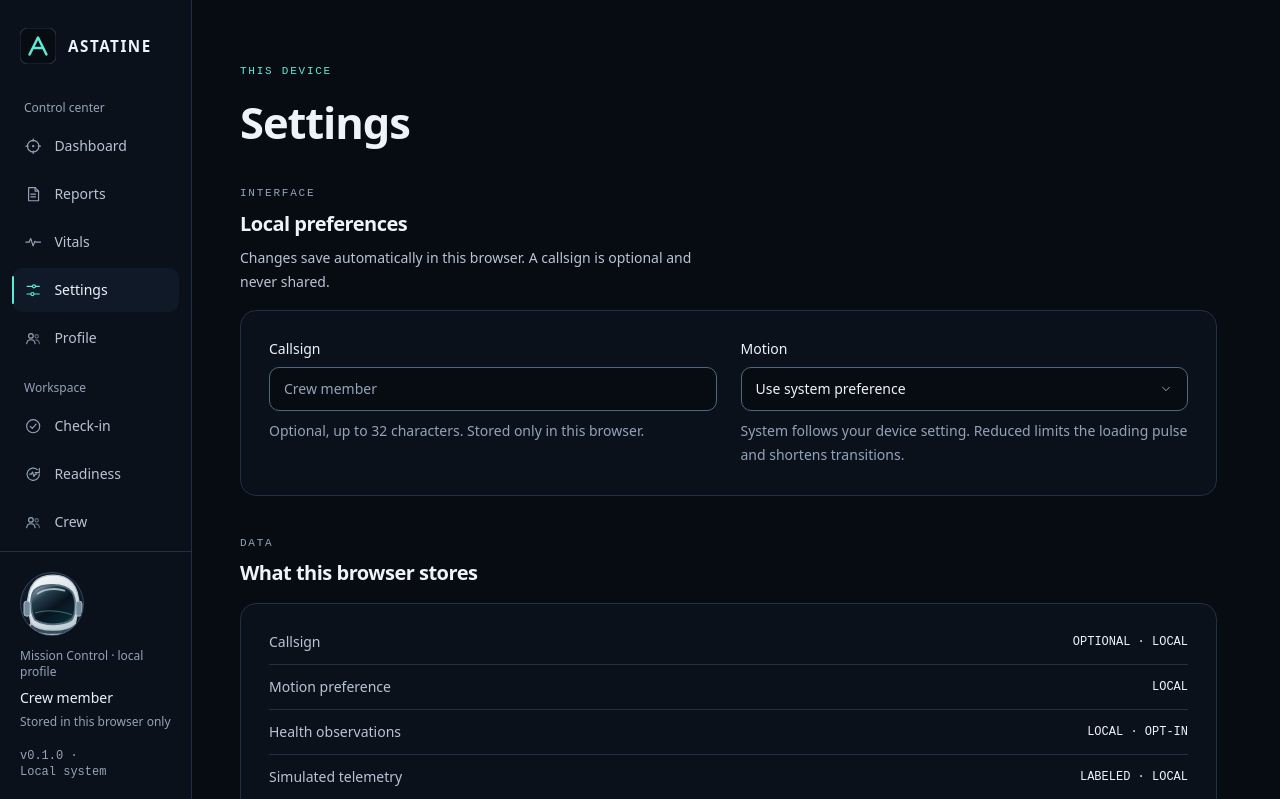
Test case: Settings › saves a local callsign and resets preferences through a confirmation dialog
This screenshot has width=1280, height=799.
Expected: the heading "Settings" is shown, [240,92,410,152]
Type "ORION" into the field labelled "Callsign".
click(493, 389); type("ORION")  # box [269,367,716,411]
(page scrolled)
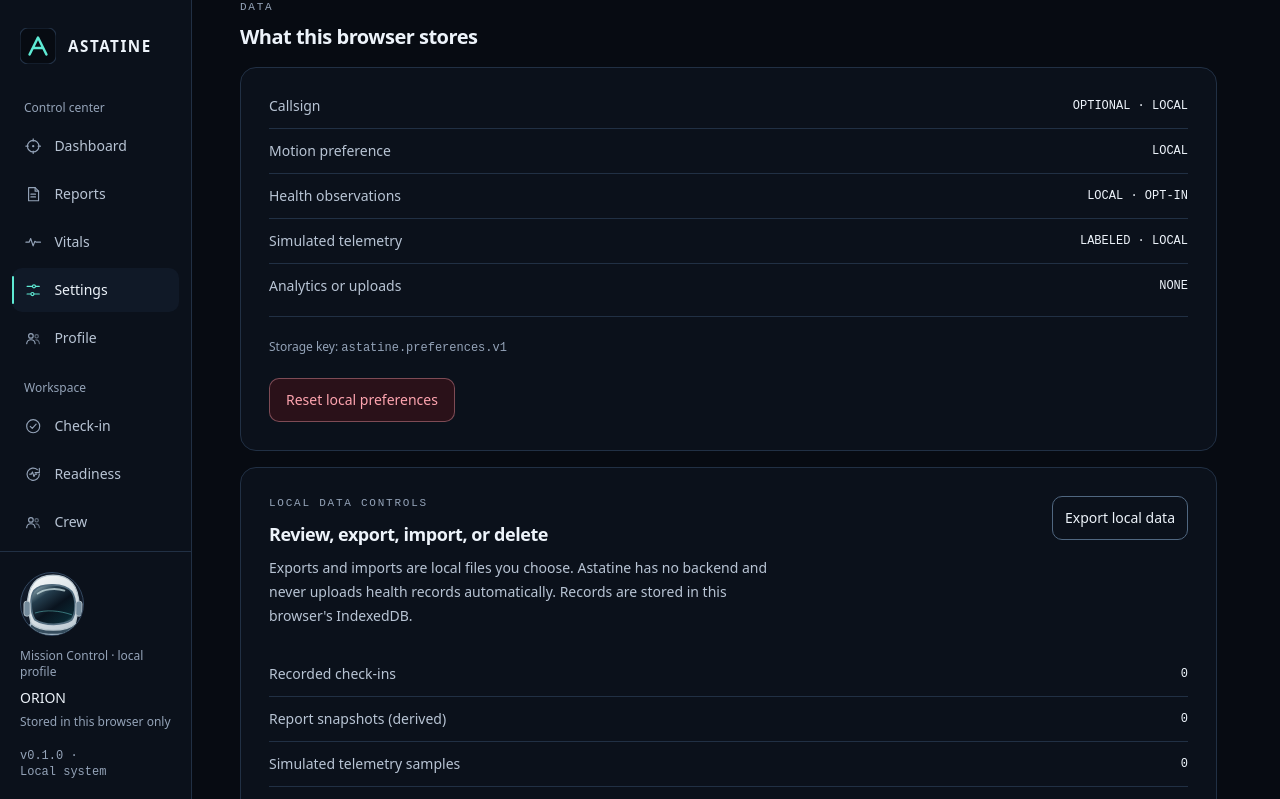
Expected: the text "ORION" is shown, [20,688,66,707]
Click the button "Reset local preferences".
click(362, 400)  # box [269,378,455,422]
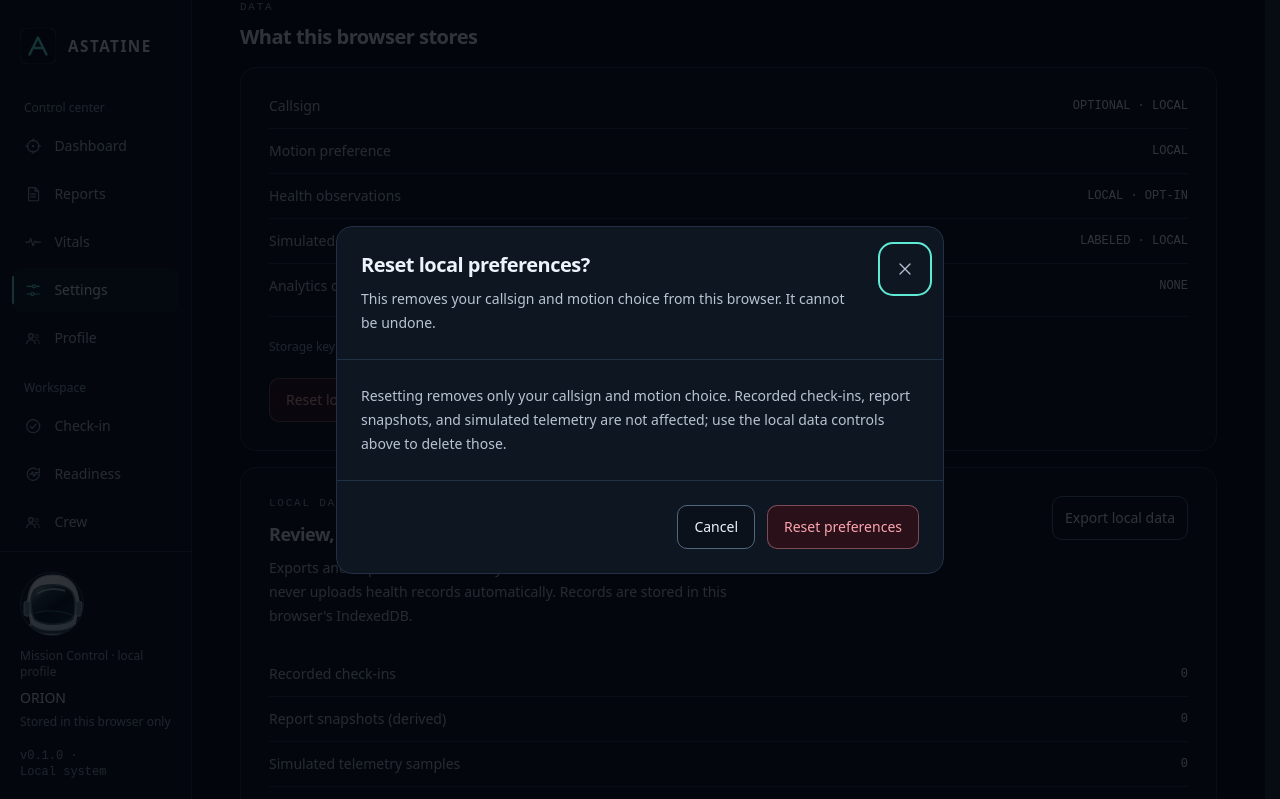
Expected: the dialog "Reset local preferences?" is shown, [336,226,944,574]
Click the button "Reset preferences".
click(843, 527)  # box [767,505,919,549]
(page scrolled)
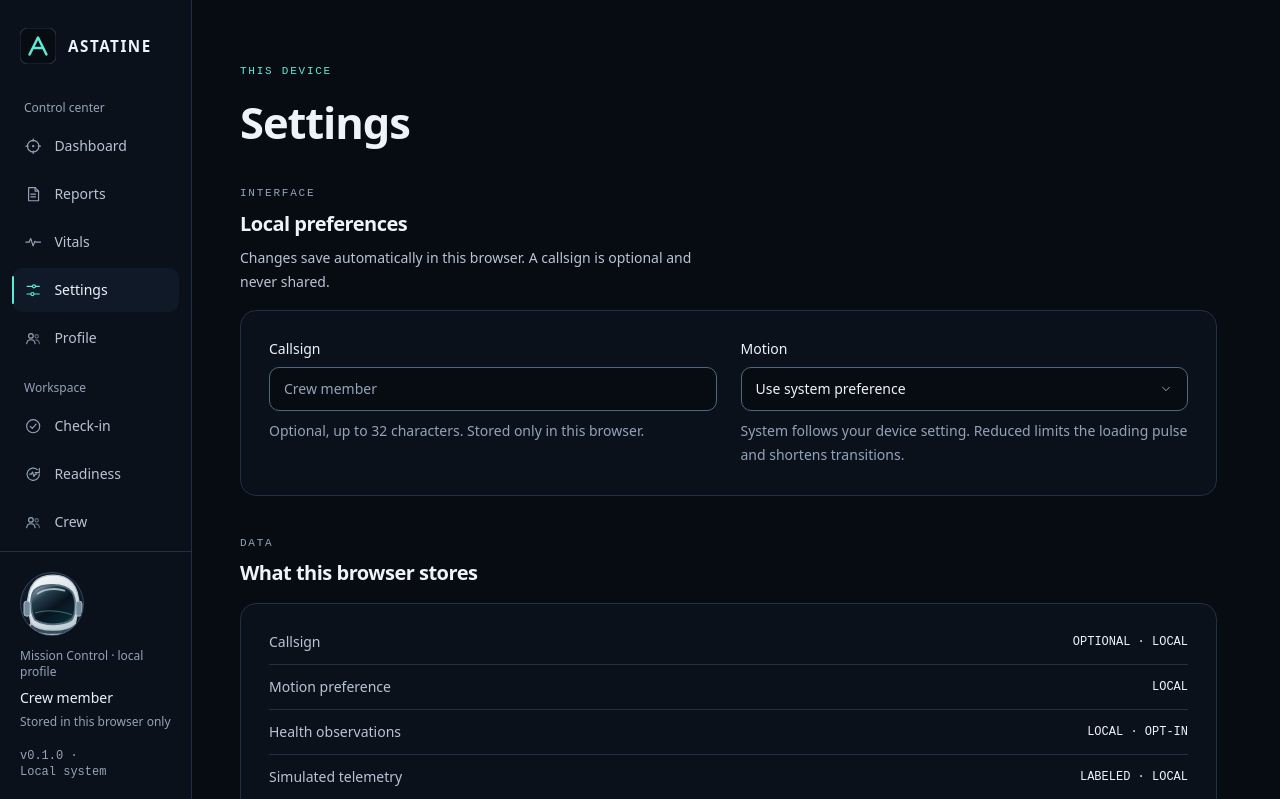
Expected: the field labelled "Callsign" is empty, [269,367,716,411]
